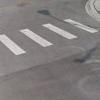Crosswalk: (1, 21, 100, 54)
